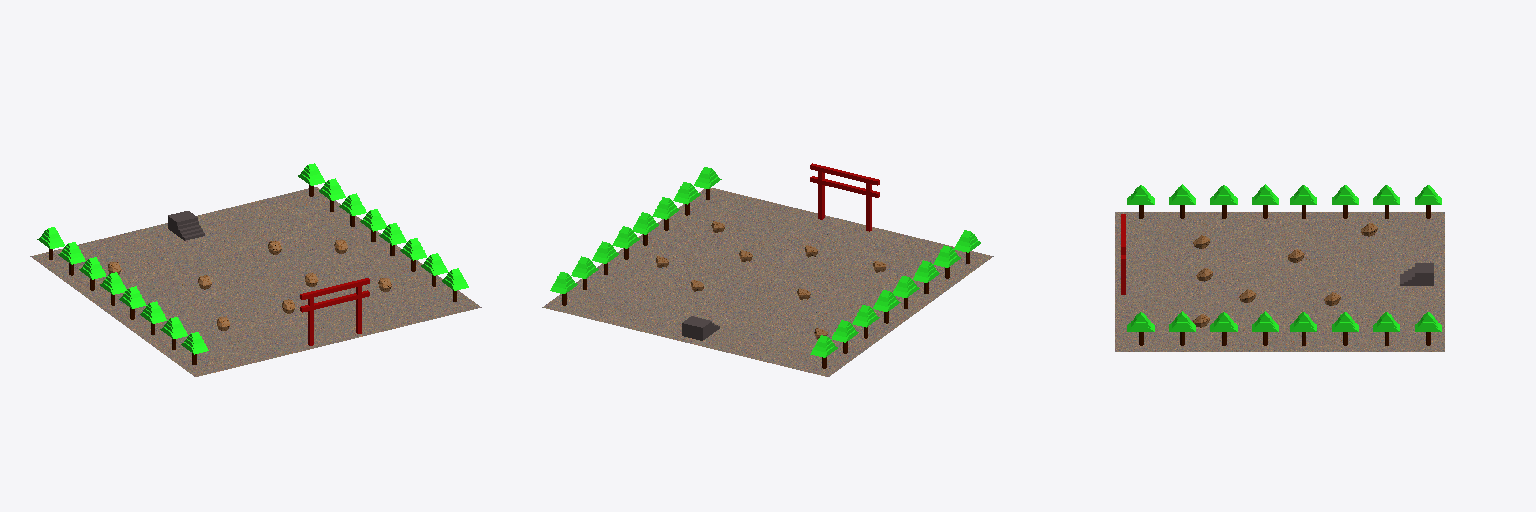
3 views of the same model, side by side, from view 1: azimuth 30°, elevation 25°; view 2: azimuth 150°, elevation 25°; view 3: azimuth 270°, elevation 25° (orthographic).
Parts seen in each view (by area): view 1: isGround, Torii, Wood17; view 2: isGround, Torii, Wood17; view 3: isGround, Wood17.
Part boxes in pixels (bbox=[...]): isGround: bbox=[30, 187, 481, 376]; Torii: bbox=[300, 278, 369, 345]; Wood17: bbox=[168, 211, 204, 240]; isGround: bbox=[542, 188, 993, 376]; Torii: bbox=[810, 163, 879, 231]; Wood17: bbox=[682, 316, 719, 340]; isGround: bbox=[1115, 212, 1444, 351]; Wood17: bbox=[1400, 263, 1433, 285].
Bounding box in the file's own units: 24 × 4.18 × 24.
Materials: 6 (2 with a texture image).